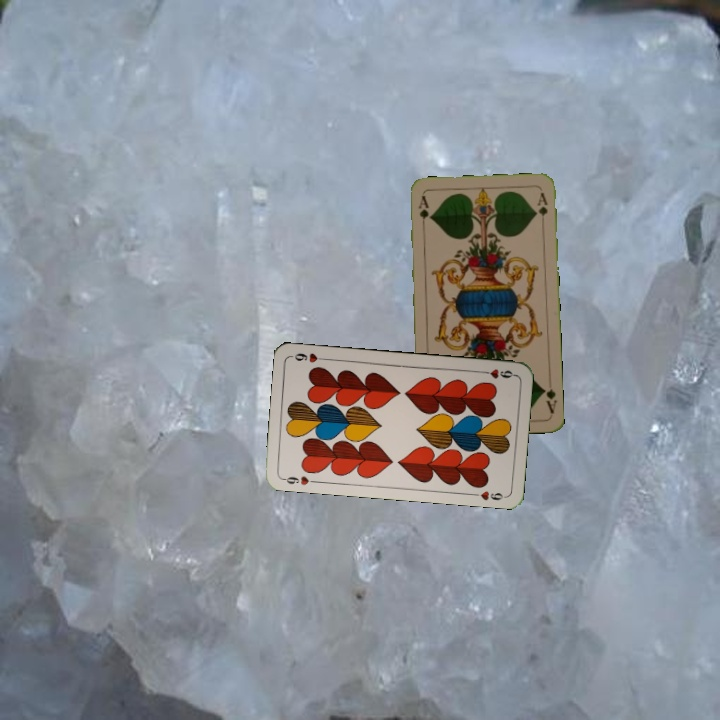GA: (414, 192, 431, 232), (539, 384, 559, 416)
H9: (477, 365, 517, 381), (279, 472, 319, 488)
